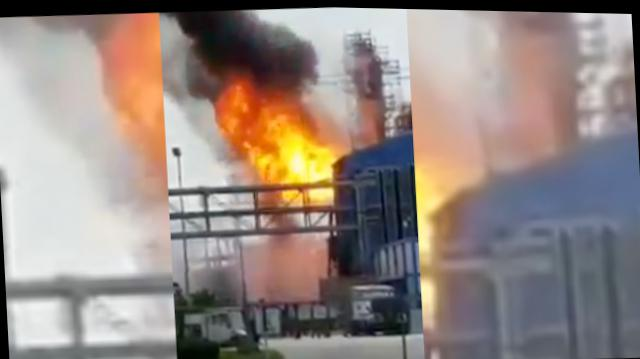fire: (204, 74, 345, 204), (416, 158, 434, 319)
smoke: (404, 7, 524, 159), (156, 3, 343, 81), (520, 9, 559, 147), (166, 79, 208, 139)
